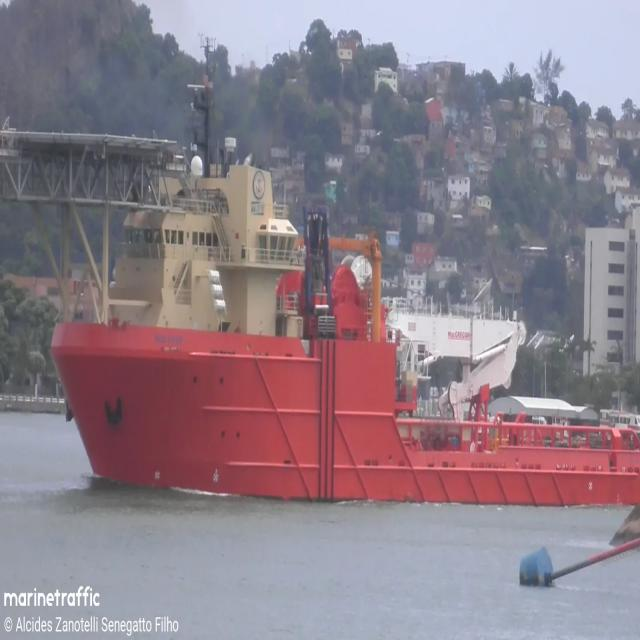Offshore: (0, 74, 640, 506)
